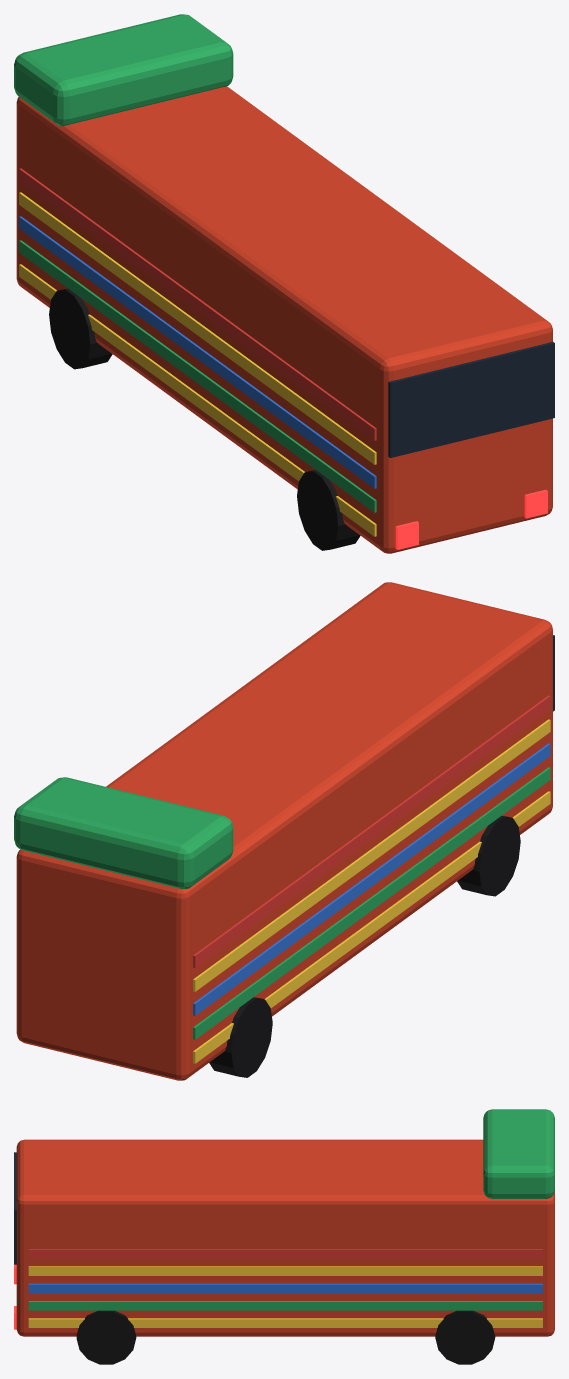
File: rick-bus-Bh3vYHel.glb
3 views of the same model, one above another, from view 1: azimuth 30°, elevation 25°; view 2: azimuth 150°, elevation 25°; view 3: azimuth 270°, elevation 25° (orthographic). The views are drawn at different scales.
Parts seen in each view (by area): view 1: Cube, Cube.007, Cube.006, Cube.002, Cube.004, Cube.003, Cube.005, Cube.001, Cylinder.001, Cylinder; view 2: Cube, Cube.007, Cube.002, Cube.004, Cube.003, Cube.005, Cube.001, Cylinder.001, Cylinder; view 3: Cube, Cube.007, Cube.003, Cube.002, Cube.004, Cube.005, Cube.001, Cylinder.003, Cylinder.002, Cube.006.
Boxes of the visible parts, <box> form: Cube: <box>16,86,552,553</box>; Cube.007: <box>14,14,233,126</box>; Cube.006: <box>388,341,554,457</box>; Cube.002: <box>19,240,376,512</box>; Cube.004: <box>19,192,376,464</box>; Cube.003: <box>19,216,376,488</box>; Cube.005: <box>19,168,376,440</box>; Cube.001: <box>19,264,376,536</box>; Cylinder.001: <box>49,288,112,369</box>; Cylinder: <box>297,470,360,550</box>; Cube: <box>16,582,552,1080</box>; Cube.007: <box>14,777,233,889</box>; Cube.002: <box>193,767,550,1039</box>; Cube.004: <box>193,719,550,991</box>; Cube.003: <box>193,743,550,1015</box>; Cube.005: <box>193,695,550,967</box>; Cube.001: <box>193,791,550,1063</box>; Cylinder.001: <box>209,997,272,1077</box>; Cylinder: <box>457,815,520,896</box>; Cube: <box>16,1139,554,1336</box>; Cube.007: <box>483,1109,554,1198</box>; Cube.003: <box>28,1283,542,1293</box>; Cube.002: <box>28,1301,542,1310</box>; Cube.004: <box>28,1266,542,1275</box>; Cube.005: <box>28,1249,542,1258</box>; Cube.001: <box>28,1318,542,1327</box>; Cylinder.003: <box>435,1310,495,1364</box>; Cylinder.002: <box>76,1310,136,1364</box>; Cube.006: <box>14,1152,16,1264</box>.
Bounding box in the file's own units: 2.55 × 3.59 × 9.05.
